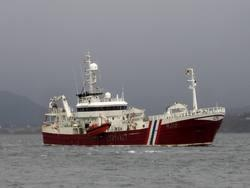otherboat: (36, 48, 227, 149)
